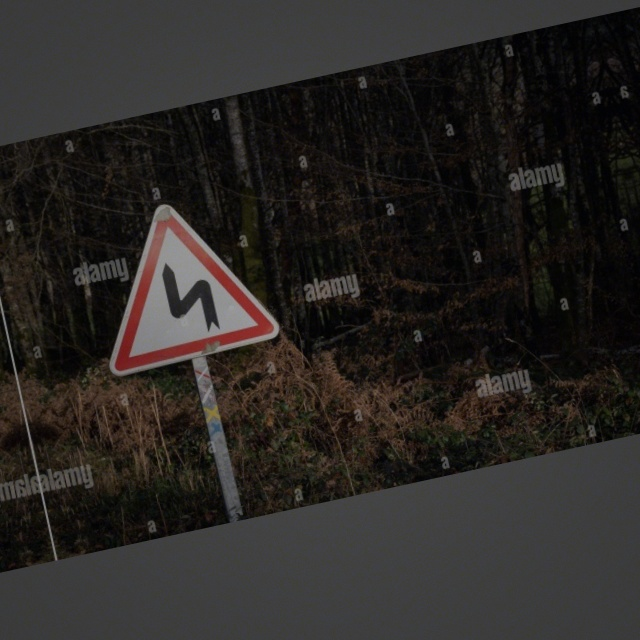Left_Reverse_Bend: (69, 176, 288, 384)
